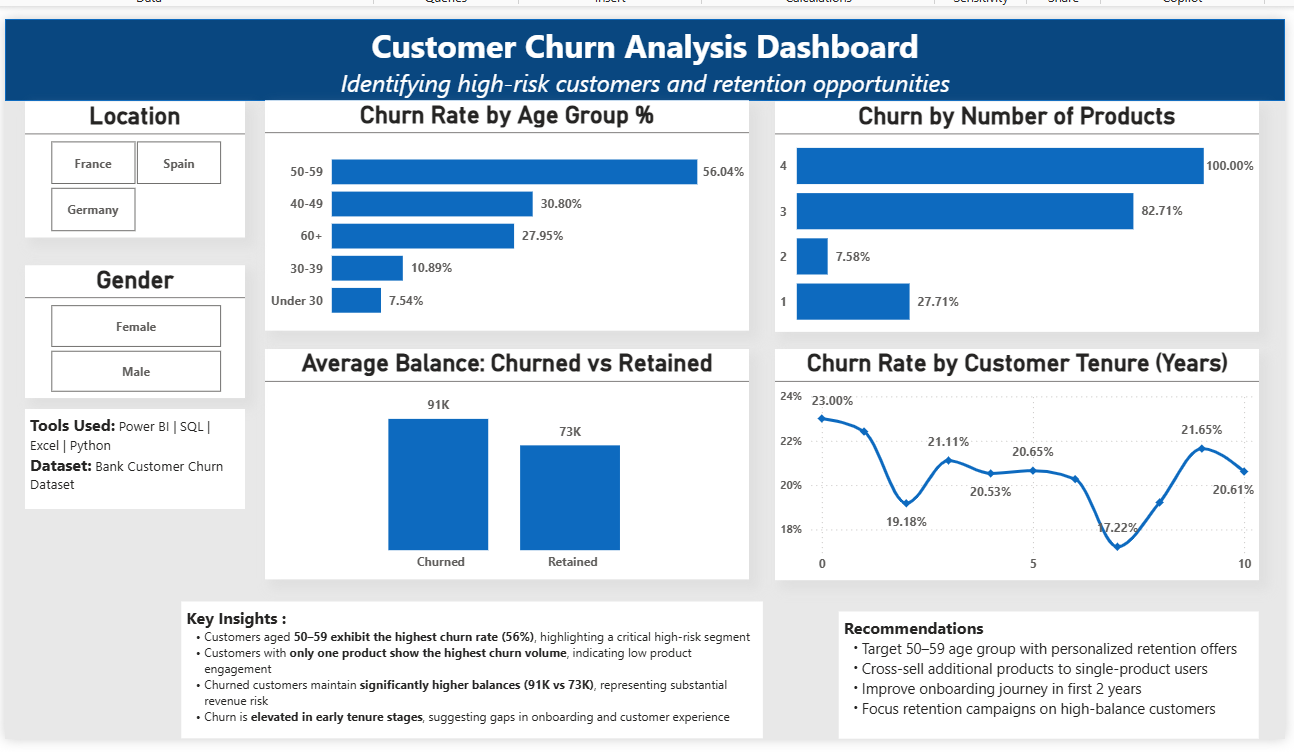

What the dashboard file says about the page in this screenshot:
{"tool":"powerbi","page":{"name":"Page 2","canvas":[1280,720],"ordinal":1},"visuals":[{"type":"shape","box":[0,0,1280,82],"z":0},{"type":"clusteredBarChart","title":"Churn Rate by Age Group %","fields":{"Category":["churn_cleaned.age_group"],"Y":["churn_cleaned.Churn Rate %"]},"box":[260,81.4,484.3,230],"z":1000},{"type":"clusteredBarChart","title":"Churn by Number of Products","fields":{"Category":["churn_cleaned.num_of_products"],"Y":["churn_cleaned.Churn Rate %"]},"box":[770,82.9,484,230],"z":2000},{"type":"clusteredColumnChart","title":"Average Balance: Churned vs Retained","fields":{"Category":["churn_cleaned.churn_status"],"Y":["churn_cleaned.average balance"]},"box":[260,330,484.3,230],"z":3000},{"type":"lineChart","title":"Churn Rate by Customer Tenure (Years)","fields":{"Category":["churn_cleaned.tenure"],"Y":["churn_cleaned.Churn Rate %"]},"box":[770,330,484.3,231.4],"z":4000},{"type":"slicer","title":"Location","fields":{"Values":["churn_cleaned.geography"]},"box":[20,82.9,220,135.7],"z":5000},{"type":"slicer","title":"Gender","fields":{"Values":["churn_cleaned.gender"]},"box":[20,245.7,220,132.9],"z":6000},{"type":"textbox","box":[258.6,0,762.9,95.7],"z":7000},{"type":"textbox","box":[175.7,582.9,581.4,137.1],"z":8000},{"type":"textbox","box":[834.3,592.9,420,127.1],"z":9000},{"type":"textbox","box":[20,390,220,100],"z":10000}]}

Visuals, with their boxes on the page's 1280x720 design canvas (x1, y1, x2, y2). These are canvas units, not pixel positions in the 1294x752 screenshot, which may show the page scaled, cropped or inside an application window:
shape: [0, 0, 1280, 82]
"Churn Rate by Age Group %" clusteredBarChart: [260, 81, 744, 311]
"Churn by Number of Products" clusteredBarChart: [770, 83, 1254, 313]
"Average Balance: Churned vs Retained" clusteredColumnChart: [260, 330, 744, 560]
"Churn Rate by Customer Tenure (Years)" lineChart: [770, 330, 1254, 561]
"Location" slicer: [20, 83, 240, 219]
"Gender" slicer: [20, 246, 240, 379]
textbox: [259, 0, 1022, 96]
textbox: [176, 583, 757, 720]
textbox: [834, 593, 1254, 720]
textbox: [20, 390, 240, 490]
